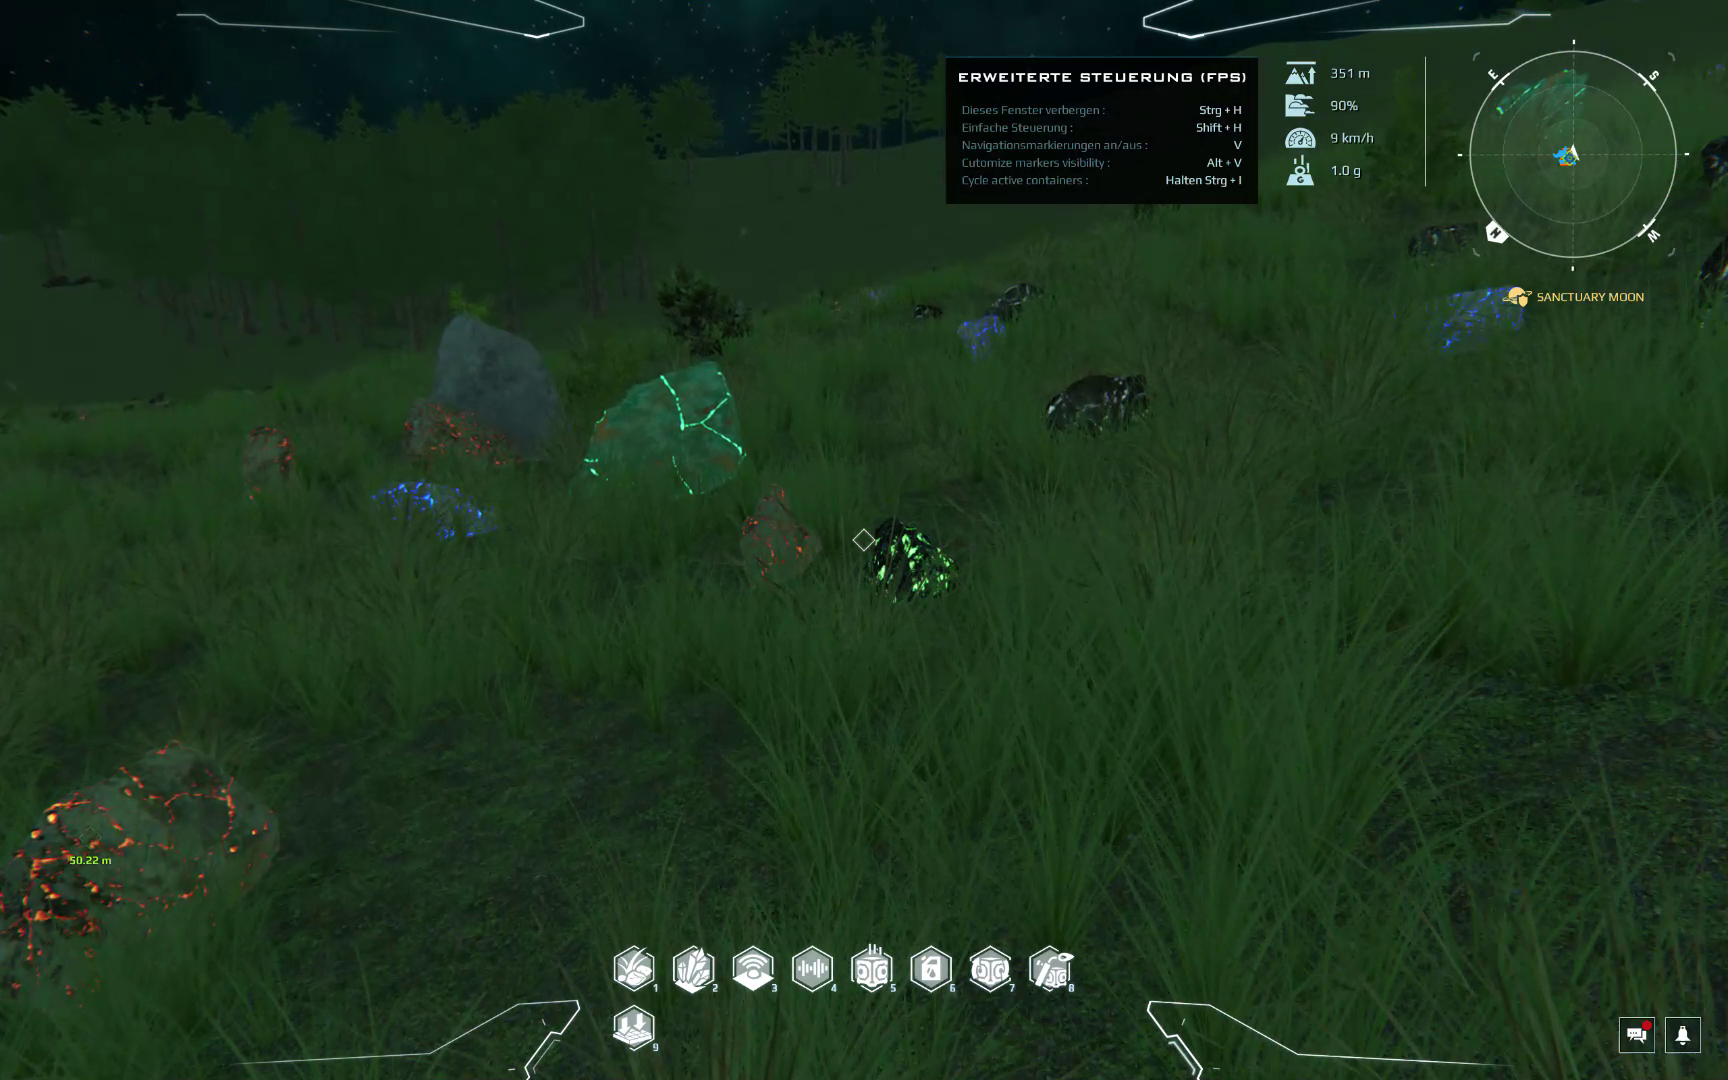Ore: (1, 733, 287, 1005), (567, 361, 750, 509), (396, 397, 539, 480), (733, 484, 824, 592), (1395, 284, 1529, 355), (368, 482, 505, 550), (860, 519, 963, 608), (1038, 366, 1154, 443), (243, 423, 304, 511), (1398, 216, 1493, 270), (1694, 241, 1728, 333), (987, 281, 1043, 326), (1694, 129, 1728, 203), (957, 316, 1006, 363), (907, 300, 947, 326)
